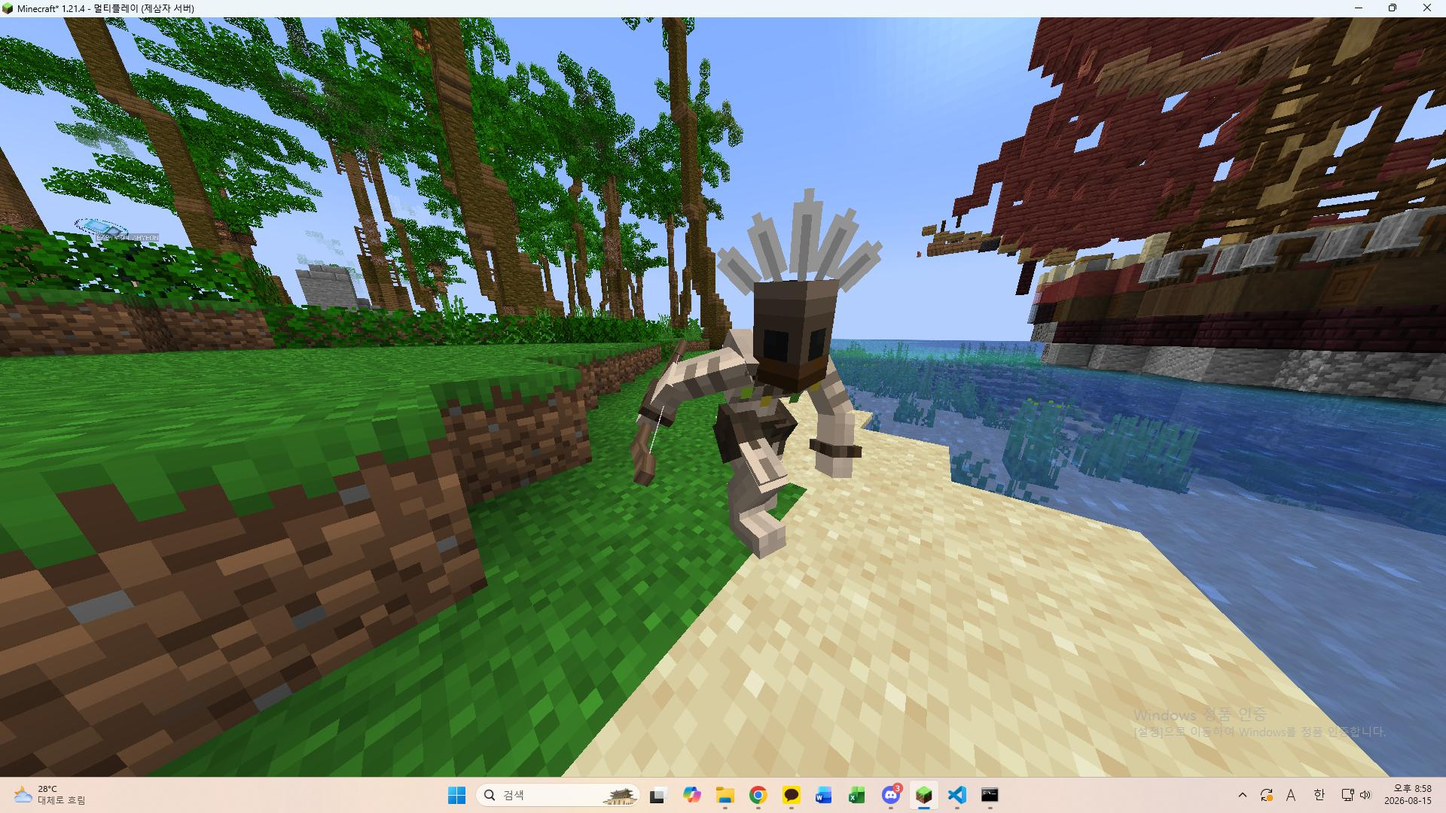bow_indian: (609, 180, 974, 579)
